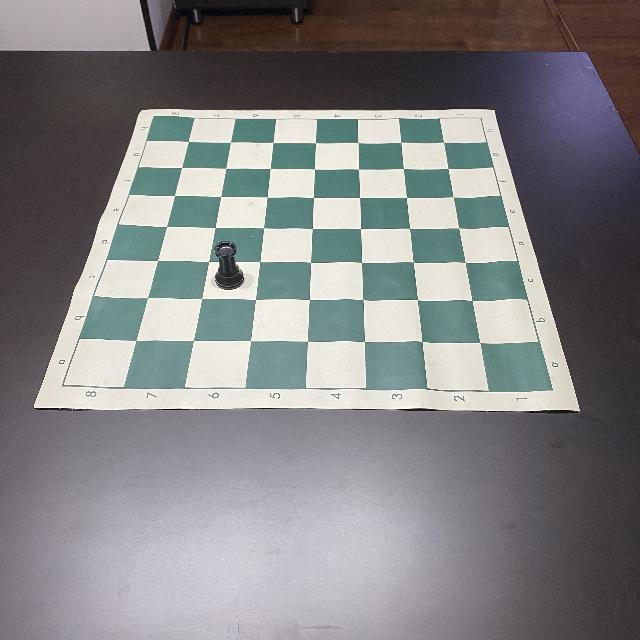black-rook: (213, 239, 244, 289)
board: (34, 106, 582, 412)
